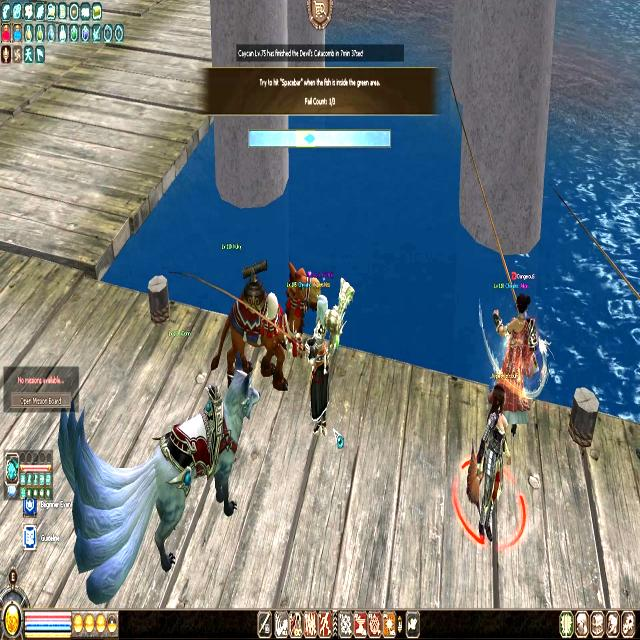fishes: (303, 131, 315, 145)
